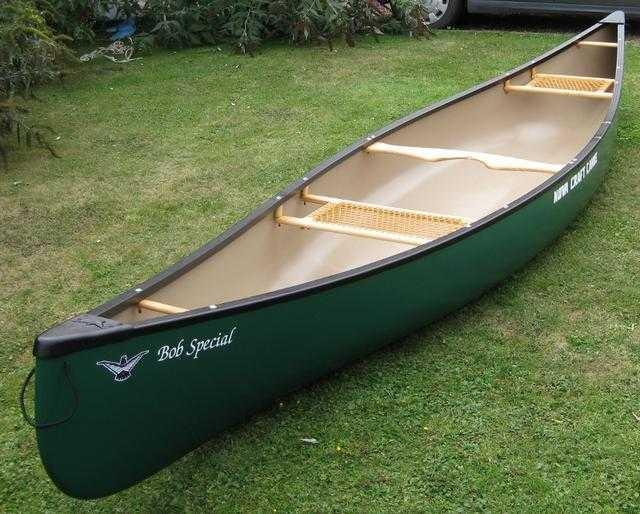kayak: (27, 23, 634, 493)
